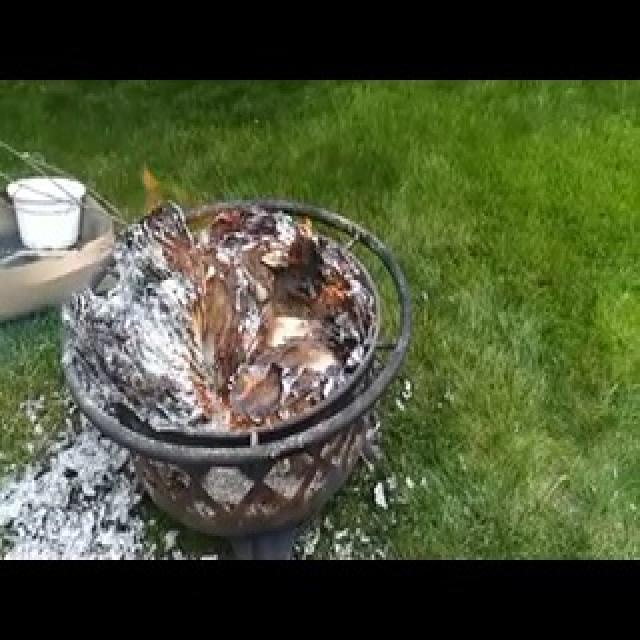fire: (169, 292, 301, 444)
